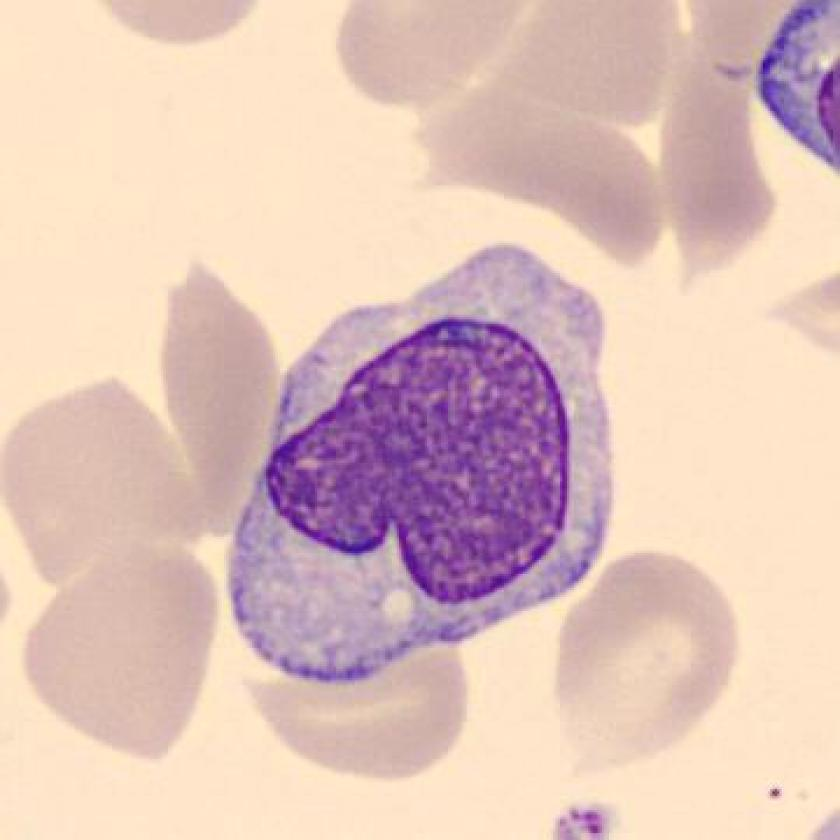monocyte: (211, 214, 643, 711)
